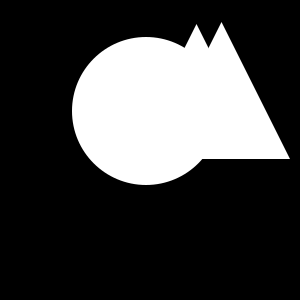rectangle: (72, 37, 220, 185)
triangle: (153, 22, 290, 159), (131, 24, 262, 155)
